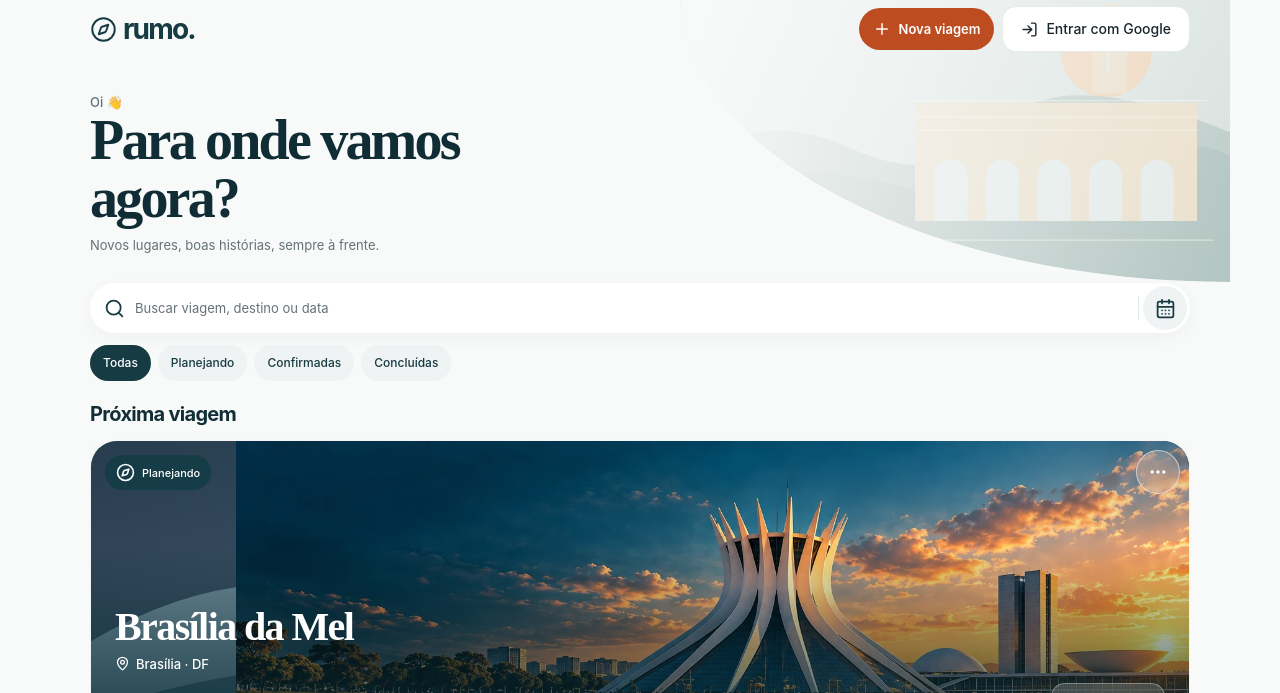
Test: preserva a criação na Home sem bottom navigation
The width and height of the screenshot is (1280, 693).
What coordinates should you click on to do the following:
click the button with aria-label "Criar viagem"
I would click on:
 (926, 29)
Its box is top-left (859, 8), bottom-right (994, 50).
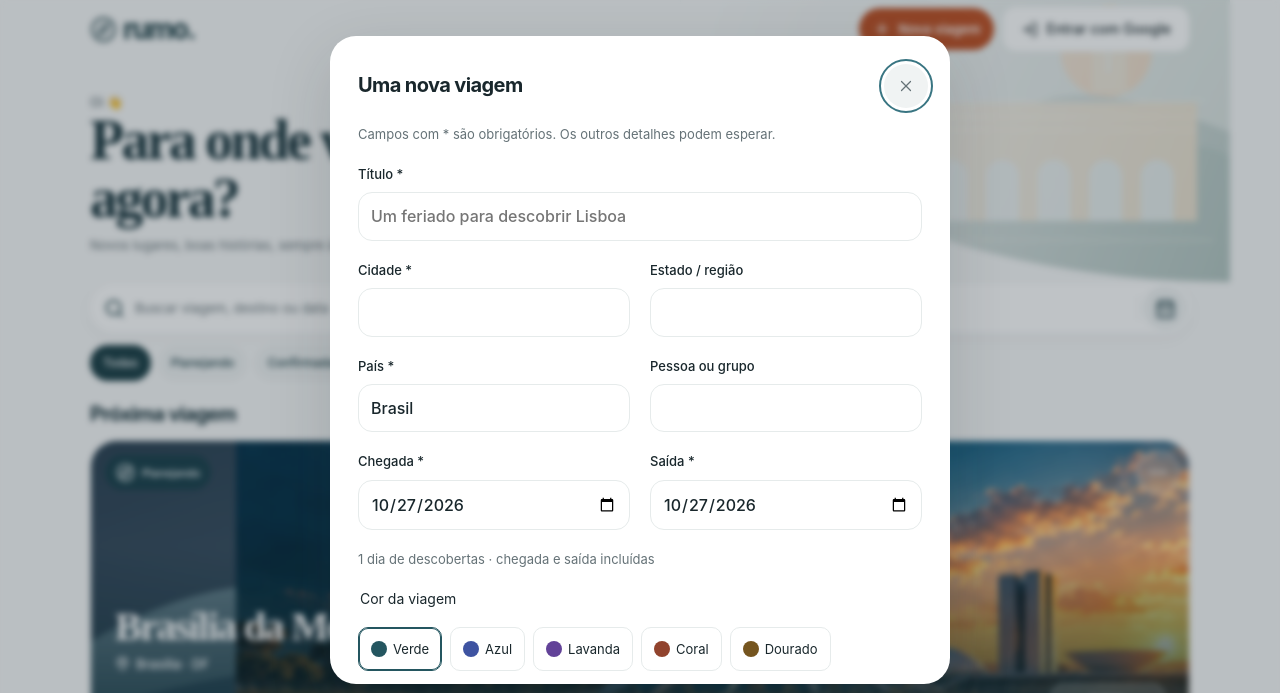
Result: the dialog shows "Uma nova viagem" at top-left (358, 73), bottom-right (523, 97)
